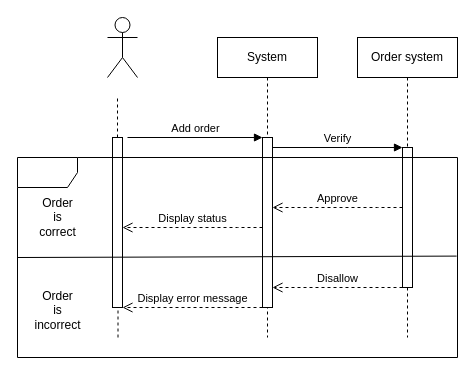
Image size: 476x375. Some labels were removed from this diagram. Each missing label, with the box of its shape:
Employee: (106, 16, 138, 78)
Scenario: (16, 156, 458, 358)
